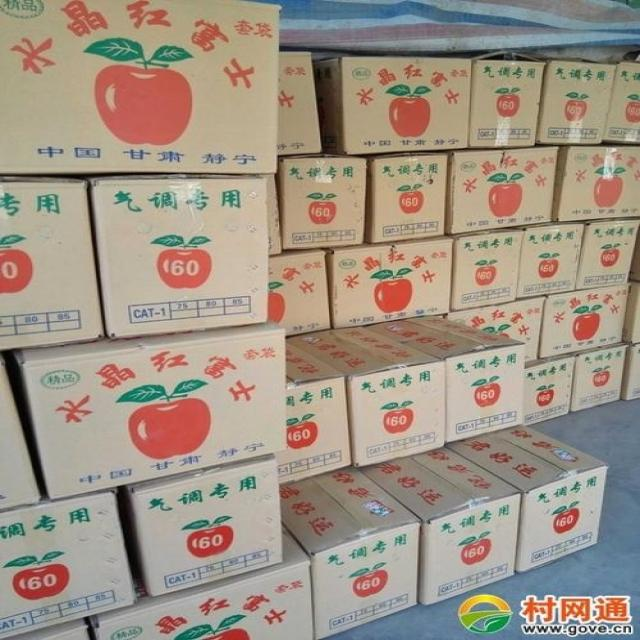box: (0, 0, 280, 174), (14, 323, 287, 499), (88, 177, 268, 339), (360, 446, 521, 606), (90, 526, 314, 640), (279, 467, 420, 639), (448, 424, 608, 573), (125, 453, 283, 598), (288, 327, 445, 467), (0, 489, 138, 639), (362, 317, 525, 443), (0, 177, 104, 351), (315, 58, 471, 155), (328, 236, 454, 329), (278, 342, 351, 485), (445, 146, 559, 234), (278, 154, 366, 249), (470, 51, 547, 148), (367, 154, 447, 242), (538, 58, 617, 145), (440, 297, 545, 361), (553, 146, 640, 221), (541, 284, 630, 357), (448, 228, 522, 310), (270, 250, 330, 337), (512, 222, 580, 297), (279, 52, 324, 157), (576, 220, 639, 289), (572, 343, 628, 411), (525, 354, 575, 425), (603, 61, 639, 145), (3, 618, 91, 639), (268, 175, 283, 255), (622, 284, 640, 343), (623, 343, 639, 400), (630, 229, 639, 281)
